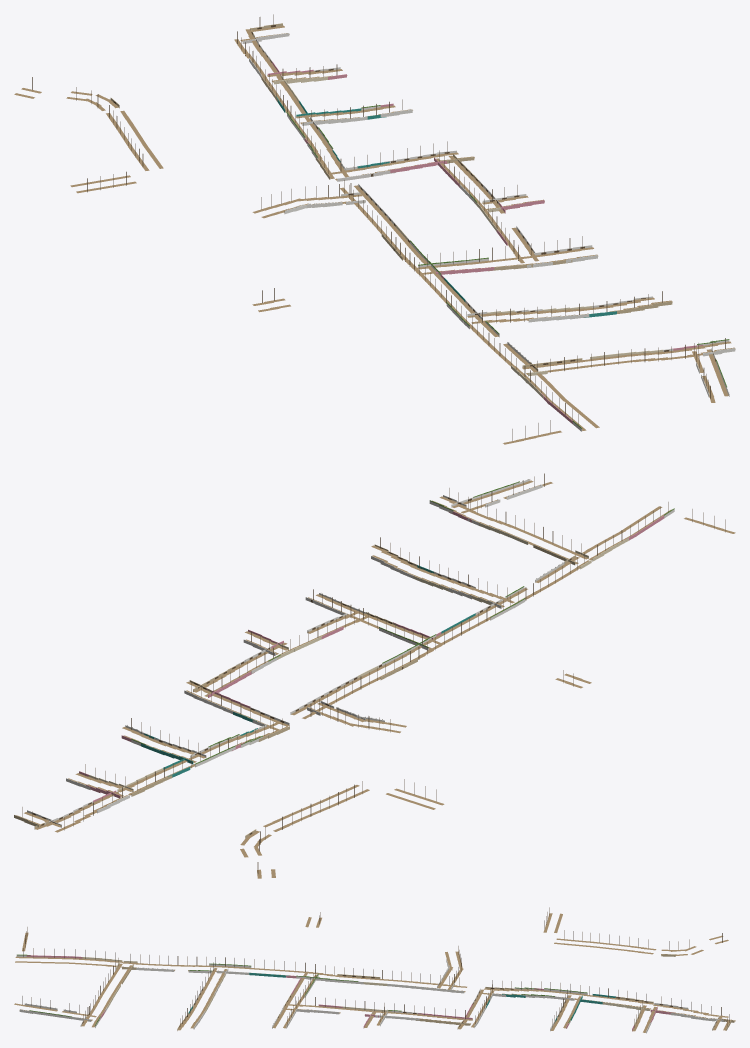
File: noord_res_-15_-11.glb
3 views of the same model, one above another, from view 1: azimuth 30°, elevation 25°; view 2: azimuth 150°, elevation 25°; view 3: azimuth 270°, elevation 25° (orthographic). The views are drawn at different scales.
Visible parts, largest first — view 1: noord_res_-15_-11_lod0; view 2: noord_res_-15_-11_lod0; view 3: noord_res_-15_-11_lod0.
Boxes of the visible parts, x1=… form: noord_res_-15_-11_lod0: x1=14, y1=14, x2=735, y2=444; noord_res_-15_-11_lod0: x1=14, y1=473, x2=735, y2=878; noord_res_-15_-11_lod0: x1=14, y1=907, x2=735, y2=1033.
Size of what is drawn, in the model's own units: 215 by 15.22 by 556.
